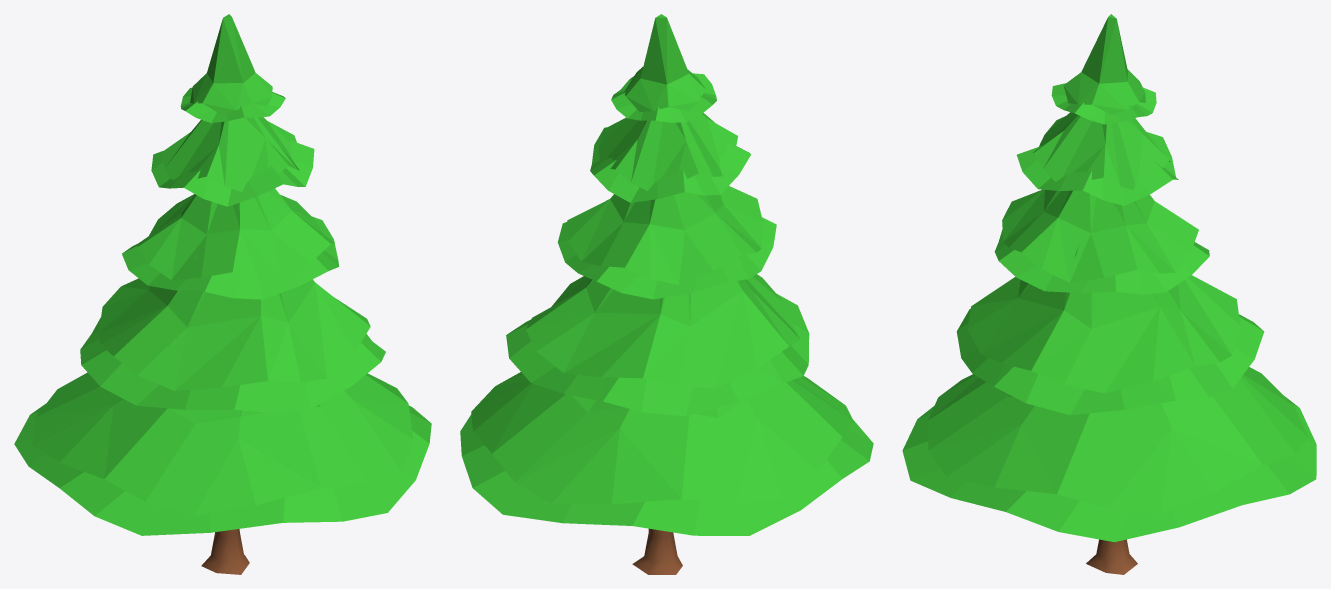
The model's file is tree_2.glb.
3 views of the same model, side by side, from view 1: azimuth 30°, elevation 25°; view 2: azimuth 150°, elevation 25°; view 3: azimuth 270°, elevation 25° (orthographic).
Visible parts, largest first — view 1: Cone.006; view 2: Cone.006; view 3: Cone.006.
Part boxes in pixels (box(x1,y1,x2,y2)): Cone.006: box(14, 14, 431, 574); Cone.006: box(460, 14, 873, 574); Cone.006: box(902, 14, 1316, 574).
Bounding box in the file's own units: 3.89 × 5.68 × 3.89.
